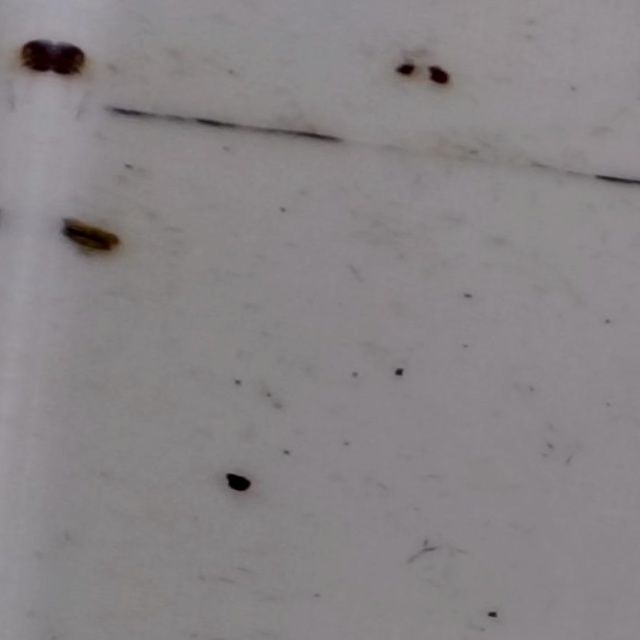varroa: (57, 222, 122, 258), (51, 44, 91, 79)
